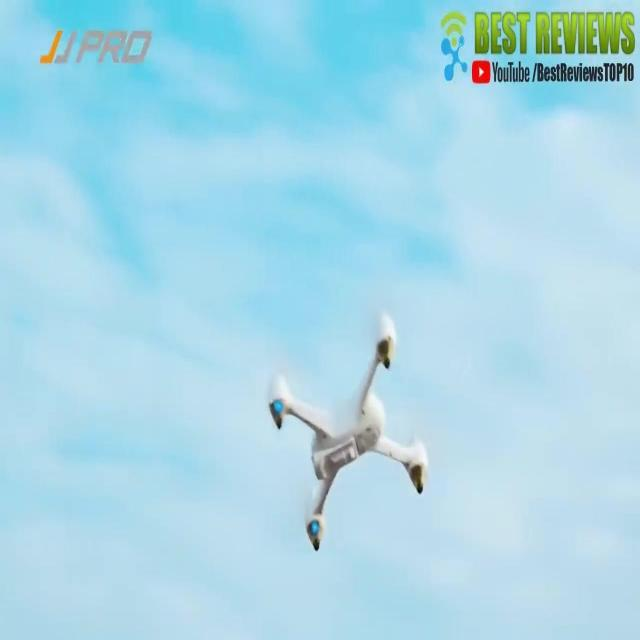UAV: (268, 310, 428, 550)
